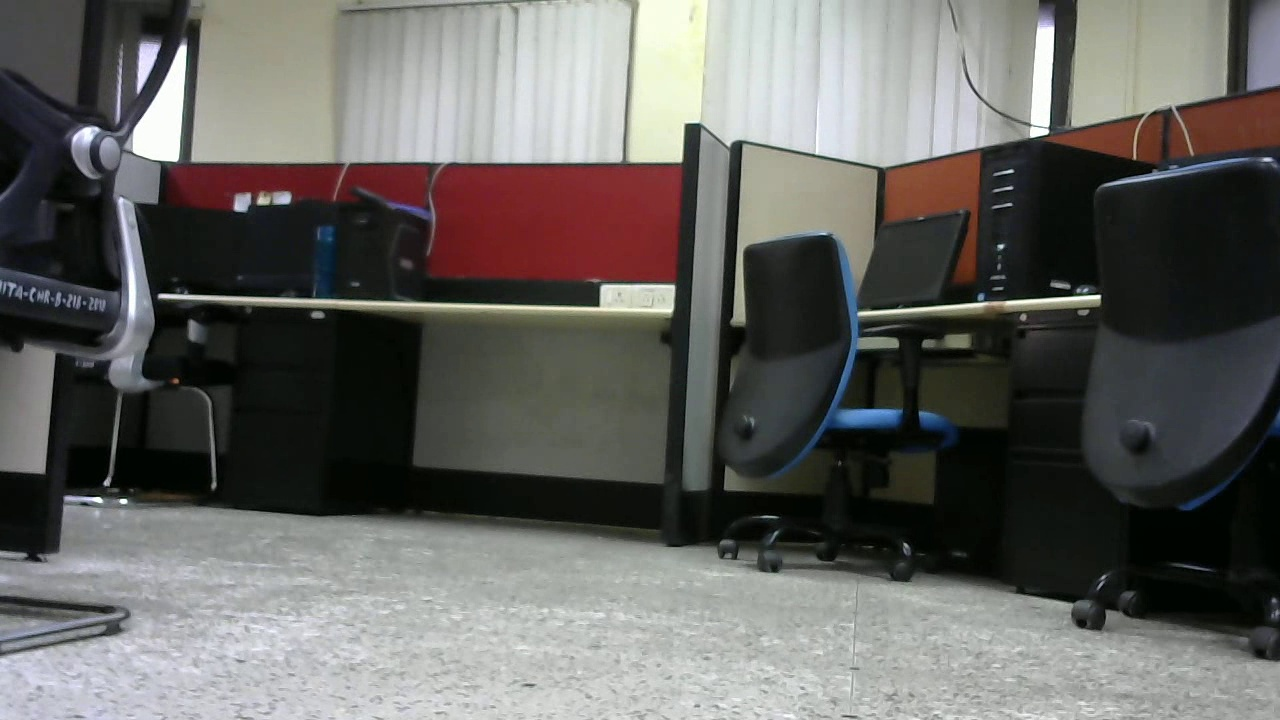chair: (689, 227, 968, 584)
